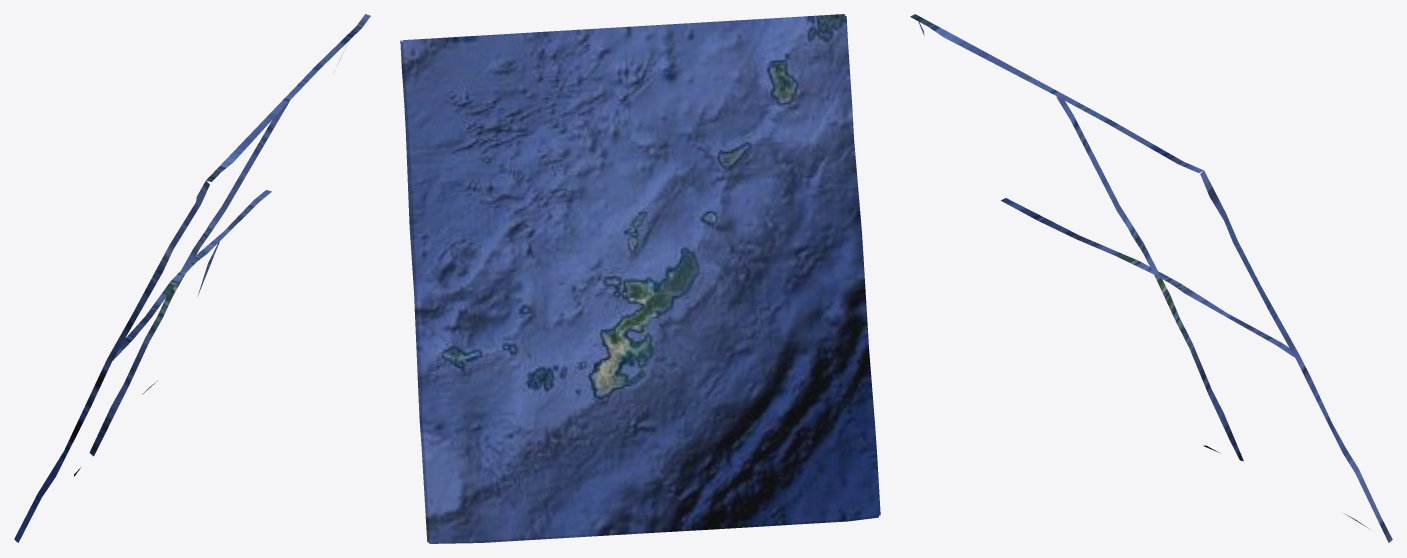
The picture shows the model from 3 angles, left to right: view 1: azimuth 30°, elevation 25°; view 2: azimuth 150°, elevation 25°; view 3: azimuth 270°, elevation 25°; orthographic projection. The views are drawn at different scales.
Bounding box in the file's own units: 307358 × 285435 × 286201.
1 material, 1 textured.
